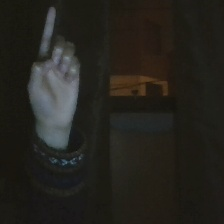D: (23, 1, 88, 133)
